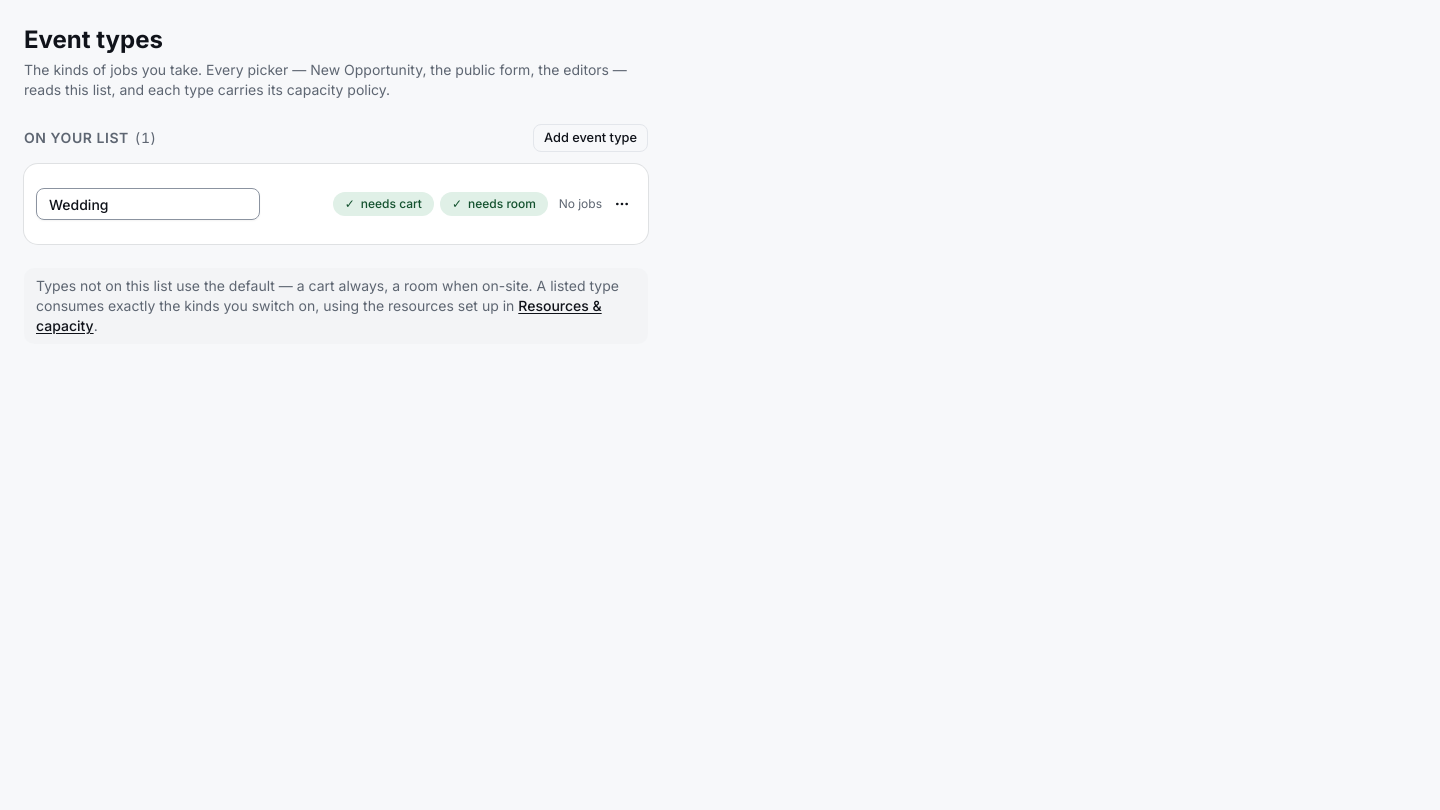
Test: EventTypesClient › restores the row and reports the server-verified usage when delete loses the race
Click the button named "Wedding — actions": (622, 204) [608,190,636,218]
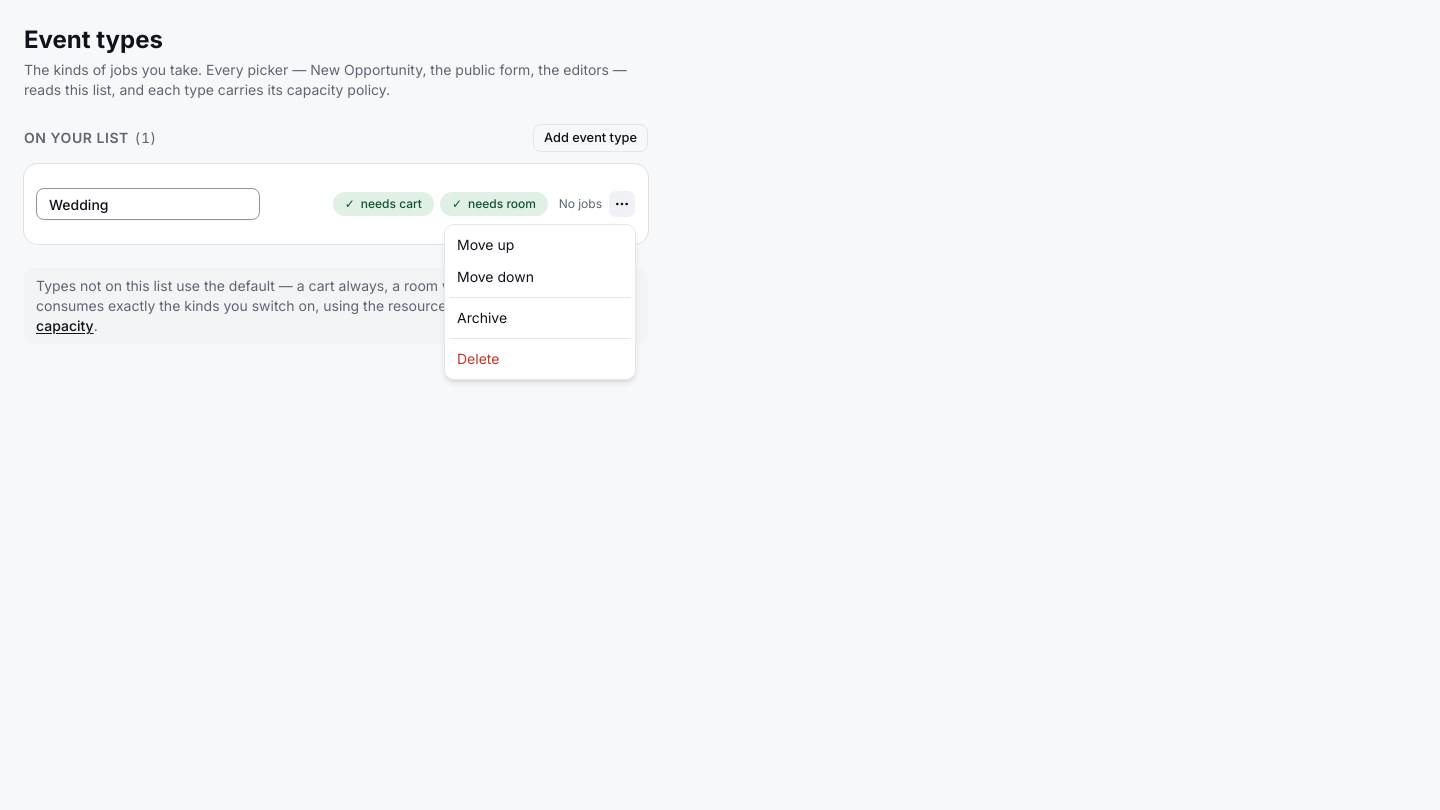
Click the menu item "Delete": (478, 358) [457,350,499,367]
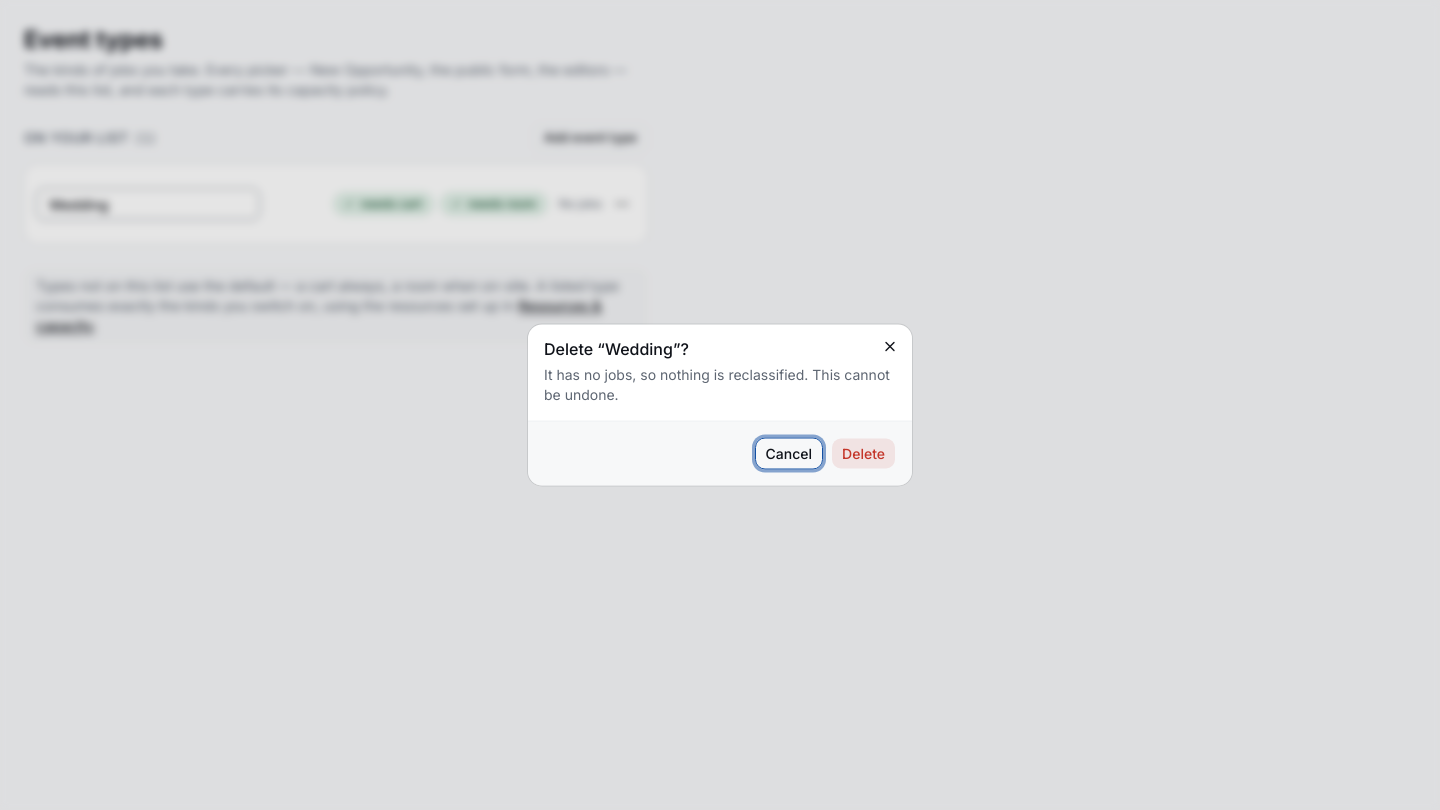
Click the button "Delete": (864, 454) [831,438,896,470]
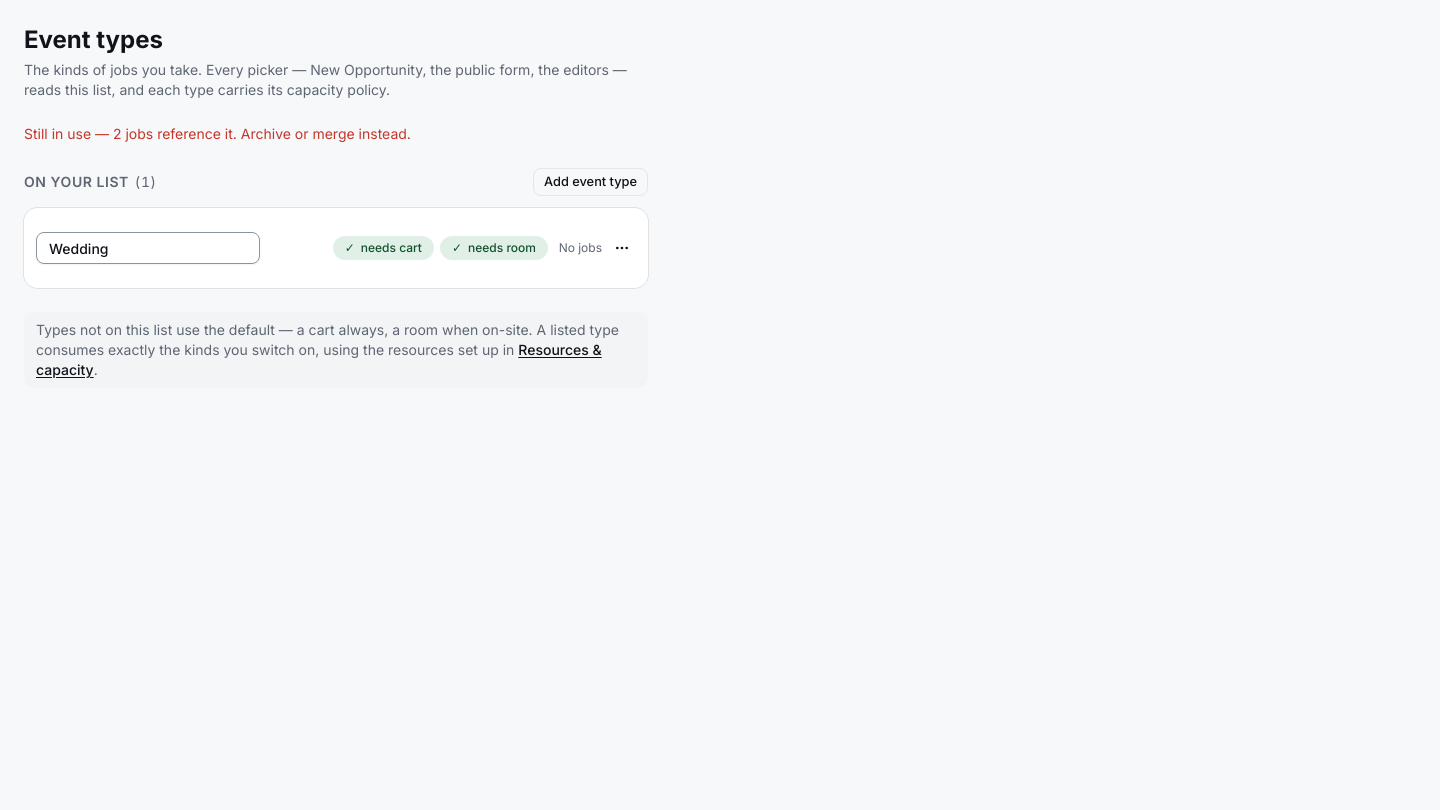
Check: the field showing "Wedding" is shown, box [36,232,260,264]
